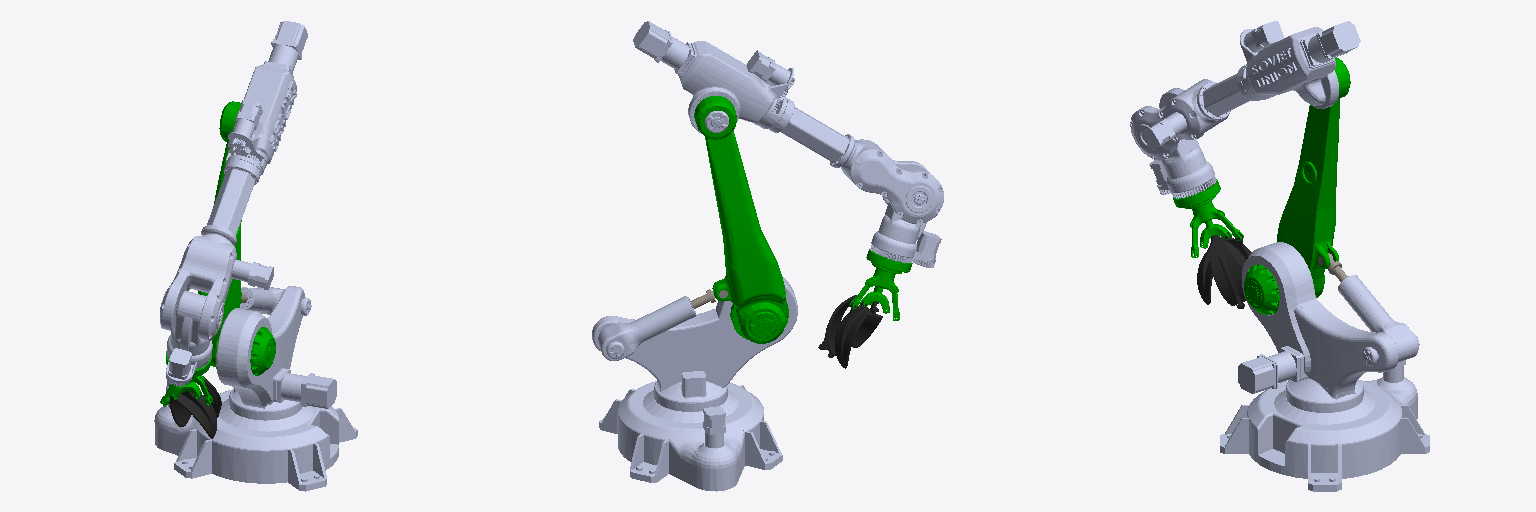
--- What the picture shows (computed from the rendered views, not written in the file) ---
Views: 3 orthographic renders of the robot side by side, from view 1: azimuth 30°, elevation 25°; view 2: azimuth 150°, elevation 25°; view 3: azimuth 270°, elevation 25°.
Model robot arm with 20 links and 19 joints (16 revolute, 1 prismatic, 2 fixed), rooted at base_link, posed every joint at zero.
Links seen in each view (by area): view 1: base_link, link 1, link 4, link 3, link 5, link 2, cylinder suport, claw 3-1; view 2: base_link, link 2, link 1, link 3, link 4, link 5, cylinder suport, claw 2, link 6, claw 1, claw 3-1; view 3: base_link, link 1, link 2, link 3, link 4, cylinder suport, link 5, claw 1, link 6, claw 3-1.
Link boxes in pixels (x1,y1,x2,y2): base_link: (154, 377, 357, 491); link 1: (216, 286, 336, 420); link 4: (160, 155, 273, 340); link 3: (226, 21, 307, 175); link 5: (166, 291, 222, 386); link 2: (198, 101, 275, 375); cylinder suport: (240, 287, 311, 315); claw 3-1: (171, 391, 216, 438); base_link: (599, 381, 782, 491); link 2: (694, 96, 788, 343); link 1: (592, 276, 797, 411); link 3: (633, 21, 794, 133); link 4: (768, 97, 943, 223); link 5: (870, 194, 941, 267); cylinder suport: (598, 296, 696, 360); claw 2: (835, 301, 870, 368); link 6: (865, 249, 912, 293); claw 1: (818, 295, 856, 357); claw 3-1: (852, 302, 882, 347); base_link: (1220, 360, 1429, 491); link 1: (1238, 242, 1398, 412); link 2: (1244, 57, 1350, 314); link 3: (1240, 21, 1360, 108); link 4: (1130, 64, 1259, 160); cylinder suport: (1338, 275, 1419, 365); link 5: (1149, 106, 1216, 198); claw 1: (1210, 240, 1245, 308); link 6: (1173, 179, 1224, 228); claw 3-1: (1197, 235, 1223, 304).
Bounding box of the posed robot: 0.6659 × 0.6171 × 1 m (x, y, z).
Meshes: 20 distinct files referenced, 16 mesh visuals loaded (16 binary STL); not drawn: 4 (reference not matched to a file when rendering).

The robot description file, URDF, robot "robot arm":
<?xml version="1.0" encoding="utf-8"?>
<!-- This URDF was automatically created by SolidWorks to URDF Exporter! Originally created by Stephen Brawner ([email redacted]) 
     Commit Version: 1.6.0-1-g15f4949  Build Version: 1.6.7594.29634
     For more information, please see http://wiki.ros.org/sw_urdf_exporter -->
<robot
  name="robot arm">
  <link
    name="base_link">
    <inertial>
      <origin
        xyz="-0.0171904098697754 0.0489151878379895 -0.0171903458272483"
        rpy="0 0 0" />
      <mass
        value="8.99461872087091" />
      <inertia
        ixx="0.0745273190041222"
        ixy="-0.000610751489417349"
        ixz="-0.0101258228667901"
        iyy="0.133451502840899"
        iyz="-0.000610759772710734"
        izz="0.0745274374965118" />
    </inertial>
    <visual>
      <origin
        xyz="0 0 0"
        rpy="0 0 0" />
      <geometry>
        <mesh
          filename="package://robot arm/meshes/base_link.STL" />
      </geometry>
      <material
        name="">
        <color
          rgba="0.792156862745098 0.819607843137255 0.933333333333333 1" />
      </material>
    </visual>
    <collision>
      <origin
        xyz="0 0 0"
        rpy="0 0 0" />
      <geometry>
        <mesh
          filename="package://robot arm/meshes/base_link.STL" />
      </geometry>
    </collision>
  </link>
  <link
    name="link 1">
    <inertial>
      <origin
        xyz="0.0127233434012177 0.132318028565164 0.02390971709017"
        rpy="0 0 0" />
      <mass
        value="4.32830168294141" />
      <inertia
        ixx="0.0561236183944775"
        ixy="-0.000873461437499454"
        ixz="-0.0016077692802286"
        iyy="0.0359600992914917"
        iyz="-0.0084651504662221"
        izz="0.0252934094224277" />
    </inertial>
    <visual>
      <origin
        xyz="0 0 0"
        rpy="0 0 0" />
      <geometry>
        <mesh
          filename="package://robot arm/meshes/link 1.STL" />
      </geometry>
      <material
        name="">
        <color
          rgba="0.792156862745098 0.819607843137255 0.933333333333333 1" />
      </material>
    </visual>
    <collision>
      <origin
        xyz="0 0 0"
        rpy="0 0 0" />
      <geometry>
        <mesh
          filename="package://robot arm/meshes/link 1.STL" />
      </geometry>
    </collision>
  </link>
  <joint
    name="joint 0"
    type="revolute">
    <origin
      xyz="0 0 0.085"
      rpy="1.5708 0 -0.90639" />
    <parent
      link="base_link" />
    <child
      link="link 1" />
    <axis
      xyz="0 1 0" />
    <limit
      lower="0"
      upper="0"
      effort="0"
      velocity="0" />
  </joint>
  <link
    name="cylinder suport">
    <inertial>
      <origin
        xyz="0.0510471636005361 2.1281658463268E-07 -0.0571089773996209"
        rpy="0 0 0" />
      <mass
        value="0.535252647801759" />
      <inertia
        ixx="0.0018297393688592"
        ixy="3.5623412317329E-10"
        ixz="1.25413102350521E-09"
        iyy="0.00196590344541013"
        iyz="-3.77517525289536E-09"
        izz="0.000354417356368292" />
    </inertial>
    <visual>
      <origin
        xyz="0 0 0"
        rpy="0 0 0" />
      <geometry>
        <mesh
          filename="package://robot arm/meshes/cylinder suport.STL" />
      </geometry>
      <material
        name="">
        <color
          rgba="0.792156862745098 0.819607843137255 0.933333333333333 1" />
      </material>
    </visual>
    <collision>
      <origin
        xyz="0 0 0"
        rpy="0 0 0" />
      <geometry>
        <mesh
          filename="package://robot arm/meshes/cylinder suport.STL" />
      </geometry>
    </collision>
  </link>
  <joint
    name="cy sup joint"
    type="revolute">
    <origin
      xyz="0 0.19313 -0.17829"
      rpy="-2.7036 0 -3.1416" />
    <parent
      link="link 1" />
    <child
      link="cylinder suport" />
    <axis
      xyz="1 0 0" />
    <limit
      lower="0"
      upper="0"
      effort="0"
      velocity="0" />
  </joint>
  <link
    name="cylinder">
    <inertial>
      <origin
        xyz="0.101773032186435 9.7648180041876E-08 -1.18473597182644E-08"
        rpy="0 0 0" />
      <mass
        value="0.0608147218897255" />
      <inertia
        ixx="4.27076812708545E-06"
        ixy="-3.74883013367531E-10"
        ixz="2.44523496477619E-11"
        iyy="0.000186634745646111"
        iyz="-8.58832964123414E-11"
        izz="0.000185609788208117" />
    </inertial>
    <visual>
      <origin
        xyz="0 0 0"
        rpy="0 0 0" />
      <geometry>
        <mesh
          filename="package://robot arm/meshes/cylinder.STL" />
      </geometry>
      <material
        name="">
        <color
          rgba="0.647058823529412 0.619607843137255 0.588235294117647 1" />
      </material>
    </visual>
    <collision>
      <origin
        xyz="0 0 0"
        rpy="0 0 0" />
      <geometry>
        <mesh
          filename="package://robot arm/meshes/cylinder.STL" />
      </geometry>
    </collision>
  </link>
  <joint
    name="cylinder"
    type="fixed">
    <origin
      xyz="0.055 0 -0.091943"
      rpy="1.0637 1.5708 1.1193" />
    <parent
      link="cylinder suport" />
    <child
      link="cylinder" />
    <axis
      xyz="0 0 0" />
  </joint>
  <link
    name="link 2">
    <inertial>
      <origin
        xyz="-0.129410399221603 0.000911482951469506 0.0380663627009094"
        rpy="0 0 0" />
      <mass
        value="3.40305462633839" />
      <inertia
        ixx="0.00746868530684131"
        ixy="-0.000123909982463174"
        ixz="0.0082851650477102"
        iyy="0.0793046529220879"
        iyz="-6.8029821689429E-05"
        izz="0.0771955311735992" />
    </inertial>
    <visual>
      <origin
        xyz="0 0 0"
        rpy="0 0 0" />
      <geometry>
        <mesh
          filename="package://robot arm/meshes/link 2.STL" />
      </geometry>
      <material
        name="">
        <color
          rgba="0 0.698039215686274 0 1" />
      </material>
    </visual>
    <collision>
      <origin
        xyz="0 0 0"
        rpy="0 0 0" />
      <geometry>
        <mesh
          filename="package://robot arm/meshes/link 2.STL" />
      </geometry>
    </collision>
  </link>
  <joint
    name="joint 1"
    type="revolute">
    <origin
      xyz="0 0.23119 0.14784"
      rpy="1.5708 -0.2023 -1.5708" />
    <parent
      link="link 1" />
    <child
      link="link 2" />
    <axis
      xyz="0 0 1" />
    <limit
      lower="0"
      upper="0"
      effort="0"
      velocity="0" />
  </joint>
  <link
    name="link 3">
    <inertial>
      <origin
        xyz="-0.0150277181697502 0.0507551215220864 -0.0175805752729395"
        rpy="0 0 0" />
      <mass
        value="2.65200213548551" />
      <inertia
        ixx="0.00515320303990088"
        ixy="-0.000215442871581433"
        ixz="5.59911119914947E-05"
        iyy="0.00914740031089903"
        iyz="0.00097980285676869"
        izz="0.00964516845252098" />
    </inertial>
    <visual>
      <origin
        xyz="0 0 0"
        rpy="0 0 0" />
      <geometry>
        <mesh
          filename="package://robot arm/meshes/link 3.STL" />
      </geometry>
      <material
        name="">
        <color
          rgba="0.792156862745098 0.819607843137255 0.933333333333333 1" />
      </material>
    </visual>
    <collision>
      <origin
        xyz="0 0 0"
        rpy="0 0 0" />
      <geometry>
        <mesh
          filename="package://robot arm/meshes/link 3.STL" />
      </geometry>
    </collision>
  </link>
  <joint
    name="joint 2"
    type="revolute">
    <origin
      xyz="-0.5 0 0"
      rpy="0 0 0.75537" />
    <parent
      link="link 2" />
    <child
      link="link 3" />
    <axis
      xyz="0 0 1" />
    <limit
      lower="0"
      upper="0"
      effort="0"
      velocity="0" />
  </joint>
  <link
    name="link 4">
    <inertial>
      <origin
        xyz="0.36221285063615 4.24167674317744E-08 -0.00524245695161452"
        rpy="0 0 0" />
      <mass
        value="2.46624303412002" />
      <inertia
        ixx="0.00363520534443675"
        ixy="3.10351138017861E-08"
        ixz="2.12239329087807E-06"
        iyy="0.0366666794074096"
        iyz="1.00443812720355E-08"
        izz="0.0354846021720409" />
    </inertial>
    <visual>
      <origin
        xyz="0 0 0"
        rpy="0 0 0" />
      <geometry>
        <mesh
          filename="package://robot arm/meshes/link 4.STL" />
      </geometry>
      <material
        name="">
        <color
          rgba="0.792156862745098 0.819607843137255 0.933333333333333 1" />
      </material>
    </visual>
    <collision>
      <origin
        xyz="0 0 0"
        rpy="0 0 0" />
      <geometry>
        <mesh
          filename="package://robot arm/meshes/link 4.STL" />
      </geometry>
    </collision>
  </link>
  <joint
    name="joint 3"
    type="revolute">
    <origin
      xyz="0 0.055 -0.025044"
      rpy="-0.20369 0 0" />
    <parent
      link="link 3" />
    <child
      link="link 4" />
    <axis
      xyz="1 0 0" />
    <limit
      lower="0"
      upper="0"
      effort="0"
      velocity="0" />
  </joint>
  <link
    name="link 5">
    <inertial>
      <origin
        xyz="1.83555480345876E-05 0.00919671847215786 0.0736774572973738"
        rpy="0 0 0" />
      <mass
        value="1.08268596086829" />
      <inertia
        ixx="0.00274036479953486"
        ixy="5.10718075778316E-08"
        ixz="-5.96212776145938E-08"
        iyy="0.00265362486664715"
        iyz="-7.54557989010005E-05"
        izz="0.00105604473946824" />
    </inertial>
    <visual>
      <origin
        xyz="0 0 0"
        rpy="0 0 0" />
      <geometry>
        <mesh
          filename="package://robot arm/meshes/link 5.STL" />
      </geometry>
      <material
        name="">
        <color
          rgba="0.792156862745098 0.819607843137255 0.933333333333333 1" />
      </material>
    </visual>
    <collision>
      <origin
        xyz="0 0 0"
        rpy="0 0 0" />
      <geometry>
        <mesh
          filename="package://robot arm/meshes/link 5.STL" />
      </geometry>
    </collision>
  </link>
  <joint
    name="joint 5"
    type="revolute">
    <origin
      xyz="0.50222 0 0"
      rpy="1.3179 1.5708 0" />
    <parent
      link="link 4" />
    <child
      link="link 5" />
    <axis
      xyz="1 0 0" />
    <limit
      lower="0"
      upper="0"
      effort="0"
      velocity="0" />
  </joint>
  <link
    name="link 6">
    <inertial>
      <origin
        xyz="0.0915324479319044 1.22358146947832E-08 4.69074946385373E-08"
        rpy="0 0 0" />
      <mass
        value="0.263363218204542" />
      <inertia
        ixx="0.000244027440263407"
        ixy="-3.23380618751134E-11"
        ixz="-5.79784772404242E-10"
        iyy="0.000225018776988952"
        iyz="-9.50941440798795E-11"
        izz="0.000225018563831659" />
    </inertial>
    <visual>
      <origin
        xyz="0 0 0"
        rpy="0 0 0" />
      <geometry>
        <mesh
          filename="package://robot arm/meshes/link 6.STL" />
      </geometry>
      <material
        name="">
        <color
          rgba="0 0.698039215686274 0 1" />
      </material>
    </visual>
    <collision>
      <origin
        xyz="0 0 0"
        rpy="0 0 0" />
      <geometry>
        <mesh
          filename="package://robot arm/meshes/link 6.STL" />
      </geometry>
    </collision>
  </link>
  <joint
    name="joint 6"
    type="revolute">
    <origin
      xyz="0 0 0.079089"
      rpy="0.14322 -1.5708 0" />
    <parent
      link="link 5" />
    <child
      link="link 6" />
    <axis
      xyz="1 0 0" />
    <limit
      lower="0"
      upper="0"
      effort="0"
      velocity="0" />
  </joint>
  <link
    name="actuator cylinder">
    <inertial>
      <origin
        xyz="0.0744728613650499 1.86599228291229E-08 -5.42654834956302E-09"
        rpy="0 0 0" />
      <mass
        value="0.0353056804269599" />
      <inertia
        ixx="9.79686131803956E-06"
        ixy="-1.35138597996888E-11"
        ixz="1.67557593429125E-11"
        iyy="1.72463238127013E-05"
        iyz="1.30885955694486E-12"
        izz="1.72463771612665E-05" />
    </inertial>
    <visual>
      <origin
        xyz="0 0 0"
        rpy="0 0 0" />
      <geometry>
        <mesh
          filename="package://robot arm/meshes/actuator cylinder.STL" />
      </geometry>
      <material
        name="">
        <color
          rgba="0 0.698039215686274 0 1" />
      </material>
    </visual>
    <collision>
      <origin
        xyz="0 0 0"
        rpy="0 0 0" />
      <geometry>
        <mesh
          filename="package://robot arm/meshes/actuator cylinder.STL" />
      </geometry>
    </collision>
  </link>
  <joint
    name="ac cy joint"
    type="prismatic">
    <origin
      xyz="0.0856 0 0"
      rpy="0.5236 0 0" />
    <parent
      link="link 6" />
    <child
      link="actuator cylinder" />
    <axis
      xyz="1 0 0" />
    <limit
      lower="-0.022571"
      upper="0.0024294"
      effort="0"
      velocity="0" />
  </joint>
  <link
    name="claw 1">
    <inertial>
      <origin
        xyz="1.84471198713676E-06 0.0559838716797626 0.00340681964107686"
        rpy="0 0 0" />
      <mass
        value="0.0632259923445696" />
      <inertia
        ixx="0.00010153846426203"
        ixy="-3.01642704895574E-10"
        ixz="-2.56139832279381E-10"
        iyy="0.000107695411613541"
        iyz="1.75263710491645E-06"
        izz="1.6371664179607E-05" />
    </inertial>
    <visual>
      <origin
        xyz="0 0 0"
        rpy="0 0 0" />
      <geometry>
        <mesh
          filename="package://robot arm/meshes/claw 1.STL" />
      </geometry>
      <material
        name="">
        <color
          rgba="0.2 0.2 0.2 1" />
      </material>
    </visual>
    <collision>
      <origin
        xyz="0 0 0"
        rpy="0 0 0" />
      <geometry>
        <mesh
          filename="package://robot arm/meshes/claw 1.STL" />
      </geometry>
    </collision>
  </link>
  <joint
    name="claw joint 1"
    type="revolute">
    <origin
      xyz="0.17085 -0.012198 0"
      rpy="3.1051 -1.5708 0" />
    <parent
      link="actuator cylinder" />
    <child
      link="claw 1" />
    <axis
      xyz="0 0 0" />
    <limit
      lower="0"
      upper="0"
      effort="0"
      velocity="0" />
  </joint>
  <link
    name="claw 2">
    <inertial>
      <origin
        xyz="1.40496469461238E-06 0.0559834107691118 0.00340763672281857"
        rpy="0 0 0" />
      <mass
        value="0.0632251249445557" />
      <inertia
        ixx="0.000101536612187904"
        ixy="-1.48111955890169E-10"
        ixz="-7.18540607580724E-10"
        iyy="0.000107692457678153"
        iyz="1.75253430519715E-06"
        izz="1.63726147451791E-05" />
    </inertial>
    <visual>
      <origin
        xyz="0 0 0"
        rpy="0 0 0" />
      <geometry>
        <mesh
          filename="package://robot arm/meshes/claw 2.STL" />
      </geometry>
      <material
        name="">
        <color
          rgba="0.2 0.2 0.2 1" />
      </material>
    </visual>
    <collision>
      <origin
        xyz="0 0 0"
        rpy="0 0 0" />
      <geometry>
        <mesh
          filename="package://robot arm/meshes/claw 2.STL" />
      </geometry>
    </collision>
  </link>
  <joint
    name="claw joint 2"
    type="revolute">
    <origin
      xyz="0.17085 0.0059428 -0.010654"
      rpy="1.6073 0.5236 -1.5708" />
    <parent
      link="actuator cylinder" />
    <child
      link="claw 2" />
    <axis
      xyz="0 0 0" />
    <limit
      lower="0"
      upper="0"
      effort="0"
      velocity="0" />
  </joint>
  <link
    name="claw 3">
    <inertial>
      <origin
        xyz="0.0105668137070598 0.0376982264529908 0.0040753604786482"
        rpy="0 0 0" />
      <mass
        value="0.0632272465915873" />
      <inertia
        ixx="0.000101537790879925"
        ixy="5.5400757509235E-10"
        ixz="7.55858106562275E-10"
        iyy="0.000107693746637803"
        iyz="1.75235676554037E-06"
        izz="1.63723150441153E-05" />
    </inertial>
    <visual>
      <origin
        xyz="0 0 0"
        rpy="0 0 0" />
      <geometry>
        <mesh
          filename="package://robot arm/meshes/claw 3.STL" />
      </geometry>
      <material
        name="">
        <color
          rgba="0.2 0.2 0.2 1" />
      </material>
    </visual>
    <collision>
      <origin
        xyz="0 0 0"
        rpy="0 0 0" />
      <geometry>
        <mesh
          filename="package://robot arm/meshes/claw 3.STL" />
      </geometry>
    </collision>
  </link>
  <joint
    name="claw joint 3"
    type="revolute">
    <origin
      xyz="0.17085 -0.012198 0"
      rpy="-1.5343 0.5236 1.5708" />
    <parent
      link="actuator cylinder" />
    <child
      link="claw 3" />
    <axis
      xyz="0 0 0" />
    <limit
      lower="0"
      upper="0"
      effort="0"
      velocity="0" />
  </joint>
  <link
    name="actuator support 1">
    <inertial>
      <origin
        xyz="-0.0108690761422405 -2.36616282123236E-15 2.72004641033163E-15"
        rpy="0 0 0" />
      <mass
        value="0.00613342406430343" />
      <inertia
        ixx="1.35436020491356E-07"
        ixy="-1.69778820726509E-21"
        ixz="1.85288457211878E-22"
        iyy="2.64283756339026E-06"
        iyz="2.64697796016969E-23"
        izz="2.62557058253601E-06" />
    </inertial>
    <visual>
      <origin
        xyz="0 0 0"
        rpy="0 0 0" />
      <geometry>
        <mesh
          filename="package://robot arm/meshes/actuator support 1.STL" />
      </geometry>
      <material
        name="">
        <color
          rgba="0 0.698039215686274 0 1" />
      </material>
    </visual>
    <collision>
      <origin
        xyz="0 0 0"
        rpy="0 0 0" />
      <geometry>
        <mesh
          filename="package://robot arm/meshes/actuator support 1.STL" />
      </geometry>
    </collision>
  </link>
  <joint
    name="ac sup 1"
    type="revolute">
    <origin
      xyz="0.15501 0.035171 0.020306"
      rpy="2.6556 0.2031 -2.7769" />
    <parent
      link="link 6" />
    <child
      link="actuator support 1" />
    <axis
      xyz="0 0 0" />
    <limit
      lower="0"
      upper="0"
      effort="0"
      velocity="0" />
  </joint>
  <link
    name="claw 1-1">
    <inertial>
      <origin
        xyz="1.84471198712288E-06 0.0559838716797655 0.00340681964108064"
        rpy="0 0 0" />
      <mass
        value="0.0632259923445697" />
      <inertia
        ixx="0.000101538464262031"
        ixy="-3.01642704862964E-10"
        ixz="-2.56139832419141E-10"
        iyy="0.000107695411613541"
        iyz="1.75263710491187E-06"
        izz="1.63716641796074E-05" />
    </inertial>
    <visual>
      <origin
        xyz="0 0 0"
        rpy="0 0 0" />
      <geometry>
        <mesh
          filename="package://robot arm/meshes/claw 1-1.STL" />
      </geometry>
      <material
        name="">
        <color
          rgba="0.2 0.2 0.2 1" />
      </material>
    </visual>
    <collision>
      <origin
        xyz="0 0 0"
        rpy="0 0 0" />
      <geometry>
        <mesh
          filename="package://robot arm/meshes/claw 1-1.STL" />
      </geometry>
    </collision>
  </link>
  <joint
    name="claw joint 1-1"
    type="revolute">
    <origin
      xyz="-0.071516 -0.089246 0"
      rpy="0.37873 1.5708 0" />
    <parent
      link="actuator support 1" />
    <child
      link="claw 1-1" />
    <axis
      xyz="0 0 0" />
    <limit
      lower="0"
      upper="0"
      effort="0"
      velocity="0" />
  </joint>
  <link
    name="actuator suport 2">
    <inertial>
      <origin
        xyz="-0.0108690761422406 5.55111512312578E-17 0"
        rpy="0 0 0" />
      <mass
        value="0.00613342406430342" />
      <inertia
        ixx="1.35436020491355E-07"
        ixy="6.88149646158763E-22"
        ixz="-6.2056511270406E-21"
        iyy="2.64283756339025E-06"
        iyz="0"
        izz="2.62557058253601E-06" />
    </inertial>
    <visual>
      <origin
        xyz="0 0 0"
        rpy="0 0 0" />
      <geometry>
        <mesh
          filename="package://robot arm/meshes/actuator suport 2.STL" />
      </geometry>
      <material
        name="">
        <color
          rgba="0 0.698039215686274 0 1" />
      </material>
    </visual>
    <collision>
      <origin
        xyz="0 0 0"
        rpy="0 0 0" />
      <geometry>
        <mesh
          filename="package://robot arm/meshes/actuator suport 2.STL" />
      </geometry>
    </collision>
  </link>
  <joint
    name="ac sup 2"
    type="revolute">
    <origin
      xyz="0.15501 -0.035171 0.020306"
      rpy="0.48602 0.2031 2.7769" />
    <parent
      link="link 6" />
    <child
      link="actuator suport 2" />
    <axis
      xyz="0 0 0" />
    <limit
      lower="0"
      upper="0"
      effort="0"
      velocity="0" />
  </joint>
  <link
    name="claw 2-1">
    <inertial>
      <origin
        xyz="1.40496469455687E-06 0.0559834107691339 0.00340763672280697"
        rpy="0 0 0" />
      <mass
        value="0.0632251249445555" />
      <inertia
        ixx="0.000101536612187903"
        ixy="-1.48111955927438E-10"
        ixz="-7.18540607702908E-10"
        iyy="0.000107692457678153"
        iyz="1.75253430519467E-06"
        izz="1.63726147451782E-05" />
    </inertial>
    <visual>
      <origin
        xyz="0 0 0"
        rpy="0 0 0" />
      <geometry>
        <mesh
          filename="package://robot arm/meshes/claw 2-1.STL" />
      </geometry>
      <material
        name="">
        <color
          rgba="0.2 0.2 0.2 1" />
      </material>
    </visual>
    <collision>
      <origin
        xyz="0 0 0"
        rpy="0 0 0" />
      <geometry>
        <mesh
          filename="package://robot arm/meshes/claw 2-1.STL" />
      </geometry>
    </collision>
  </link>
  <joint
    name="claw joint 2-1"
    type="revolute">
    <origin
      xyz="-0.071516 -0.089246 -0.0001806"
      rpy="0.37873 1.5708 0" />
    <parent
      link="actuator suport 2" />
    <child
      link="claw 2-1" />
    <axis
      xyz="0 0 0" />
    <limit
      lower="0"
      upper="0"
      effort="0"
      velocity="0" />
  </joint>
  <link
    name="actuator support 3">
    <inertial>
      <origin
        xyz="-0.0108690761422407 2.22044604925031E-16 0"
        rpy="0 0 0" />
      <mass
        value="0.00613342406430343" />
      <inertia
        ixx="1.35436020491356E-07"
        ixy="-1.60142166590266E-21"
        ixz="1.95214624562515E-22"
        iyy="2.64283756339026E-06"
        iyz="1.05879118406788E-22"
        izz="2.62557058253602E-06" />
    </inertial>
    <visual>
      <origin
        xyz="0 0 0"
        rpy="0 0 0" />
      <geometry>
        <mesh
          filename="package://robot arm/meshes/actuator support 3.STL" />
      </geometry>
      <material
        name="">
        <color
          rgba="0 0.698039215686274 0 1" />
      </material>
    </visual>
    <collision>
      <origin
        xyz="0 0 0"
        rpy="0 0 0" />
      <geometry>
        <mesh
          filename="package://robot arm/meshes/actuator support 3.STL" />
      </geometry>
    </collision>
  </link>
  <joint
    name="ac sup 3"
    type="revolute">
    <origin
      xyz="0.15501 0 -0.040612"
      rpy="-1.5708 -0.41525 -3.1416" />
    <parent
      link="link 6" />
    <child
      link="actuator support 3" />
    <axis
      xyz="0 0 0" />
    <limit
      lower="0"
      upper="0"
      effort="0"
      velocity="0" />
  </joint>
  <link
    name="claw 3-1">
    <inertial>
      <origin
        xyz="0.0105668137070598 0.0376982264529872 0.00407536047864931"
        rpy="0 0 0" />
      <mass
        value="0.0632272465915874" />
      <inertia
        ixx="0.000101537790879926"
        ixy="5.54007575102514E-10"
        ixz="7.55858106552111E-10"
        iyy="0.000107693746637804"
        iyz="1.75235676553741E-06"
        izz="1.63723150441155E-05" />
    </inertial>
    <visual>
      <origin
        xyz="0 0 0"
        rpy="0 0 0" />
      <geometry>
        <mesh
          filename="package://robot arm/meshes/claw 3-1.STL" />
      </geometry>
      <material
        name="">
        <color
          rgba="0.2 0.2 0.2 1" />
      </material>
    </visual>
    <collision>
      <origin
        xyz="0 0 0"
        rpy="0 0 0" />
      <geometry>
        <mesh
          filename="package://robot arm/meshes/claw 3-1.STL" />
      </geometry>
    </collision>
  </link>
  <joint
    name="claw joint 3-1"
    type="revolute">
    <origin
      xyz="-0.078897 -0.072503 0.010564"
      rpy="0.37873 1.5708 0" />
    <parent
      link="actuator support 3" />
    <child
      link="claw 3-1" />
    <axis
      xyz="0 0 0" />
    <limit
      lower="0"
      upper="0"
      effort="0"
      velocity="0" />
  </joint>
  <link
    name="cylynder suport 2">
    <inertial>
      <origin
        xyz="0.101773032186435 9.7648180041876E-08 -1.18473598847979E-08"
        rpy="0 0 0" />
      <mass
        value="0.0608147218897256" />
      <inertia
        ixx="4.27076812708547E-06"
        ixy="-3.74883013386007E-10"
        ixz="2.44523496114453E-11"
        iyy="0.000186634745646111"
        iyz="-8.58832964089533E-11"
        izz="0.000185609788208117" />
    </inertial>
    <visual>
      <origin
        xyz="0 0 0"
        rpy="0 0 0" />
      <geometry>
        <mesh
          filename="package://robot arm/meshes/cylynder suport 2.STL" />
      </geometry>
      <material
        name="">
        <color
          rgba="0.647058823529412 0.619607843137255 0.588235294117647 1" />
      </material>
    </visual>
    <collision>
      <origin
        xyz="0 0 0"
        rpy="0 0 0" />
      <geometry>
        <mesh
          filename="package://robot arm/meshes/cylynder suport 2.STL" />
      </geometry>
    </collision>
  </link>
  <joint
    name="cy sup 2"
    type="fixed">
    <origin
      xyz="-0.049715 -0.23773 0.055"
      rpy="0 0 1.8065" />
    <parent
      link="link 2" />
    <child
      link="cylynder suport 2" />
    <axis
      xyz="0 0 0" />
  </joint>
</robot>
